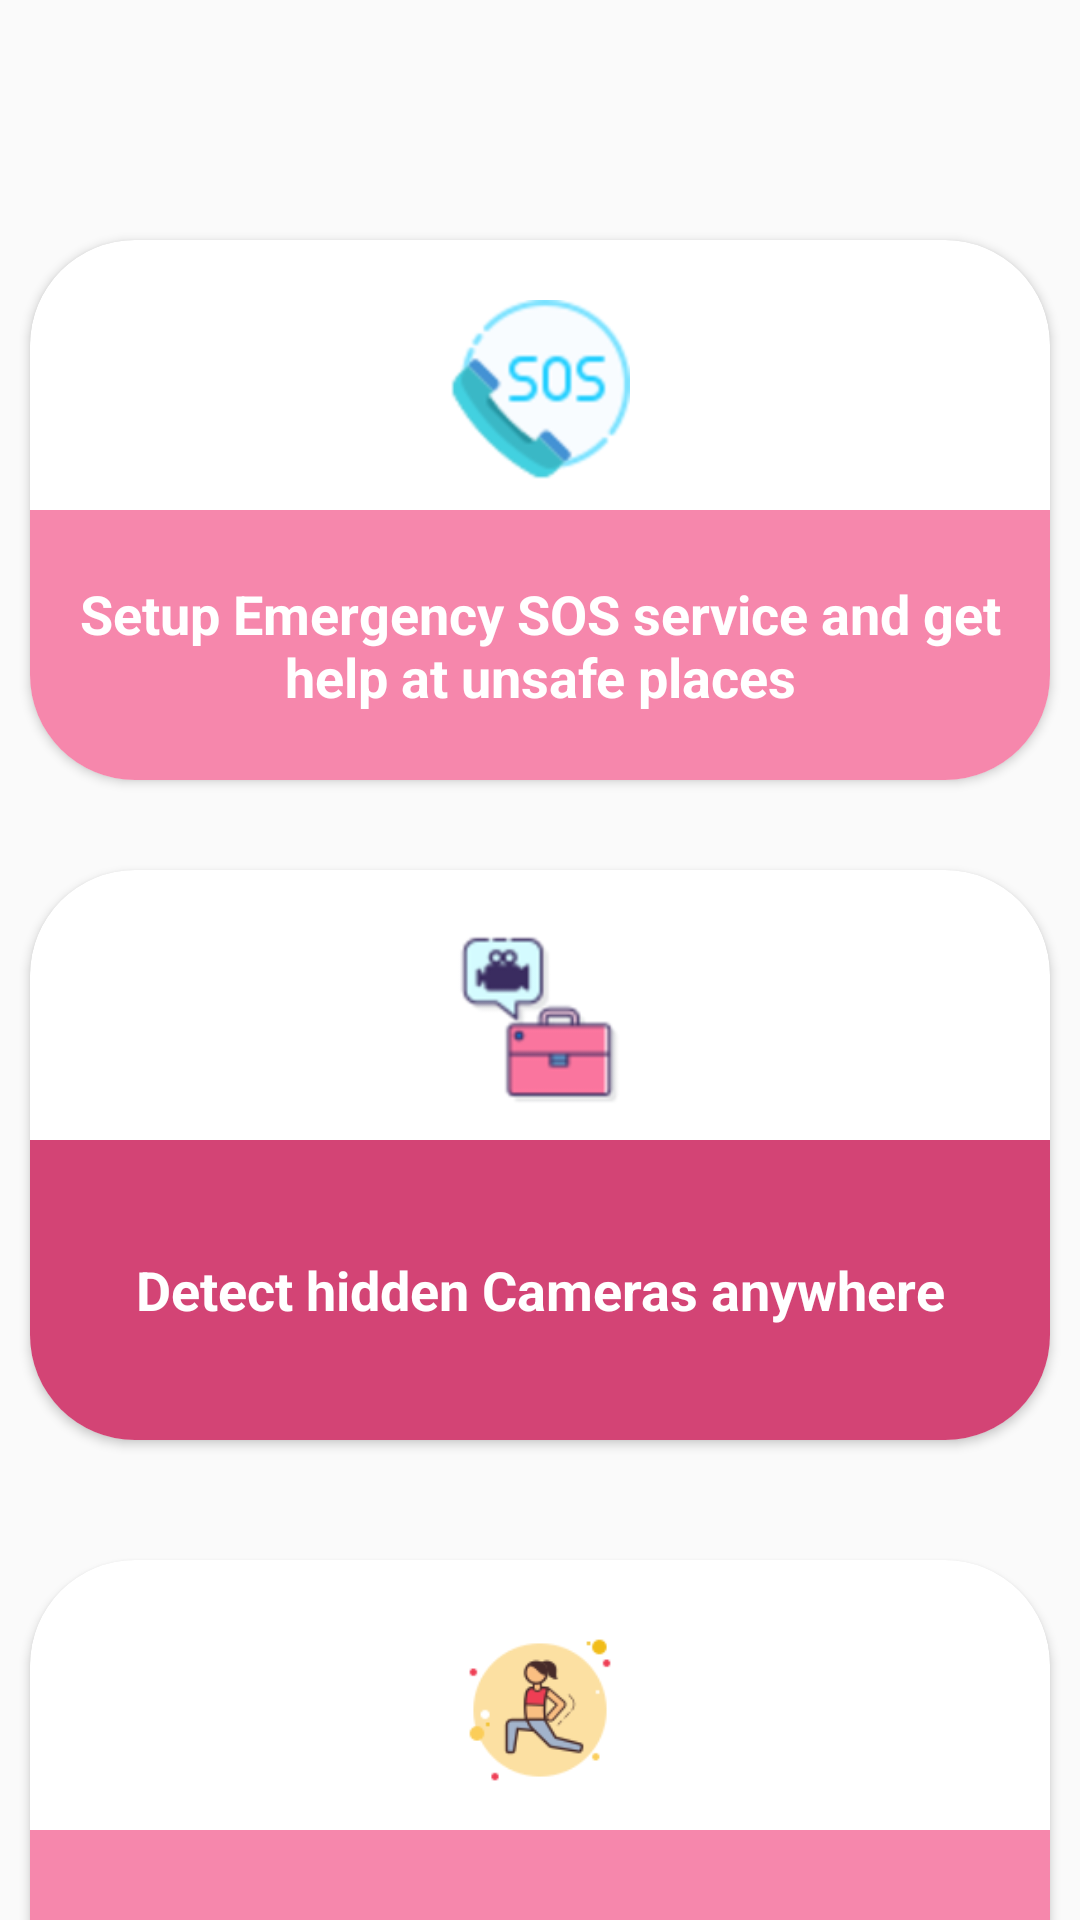

Where to tap for icons on this 1080 x 1920 app screen, as (x,y):
spy: (538,1018)
